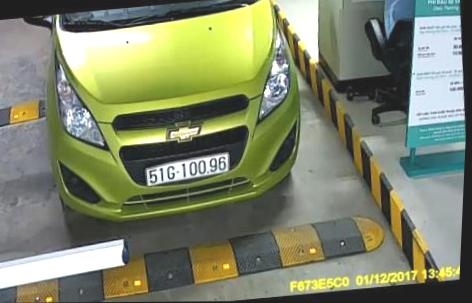License_Plate: (129, 147, 244, 192)
